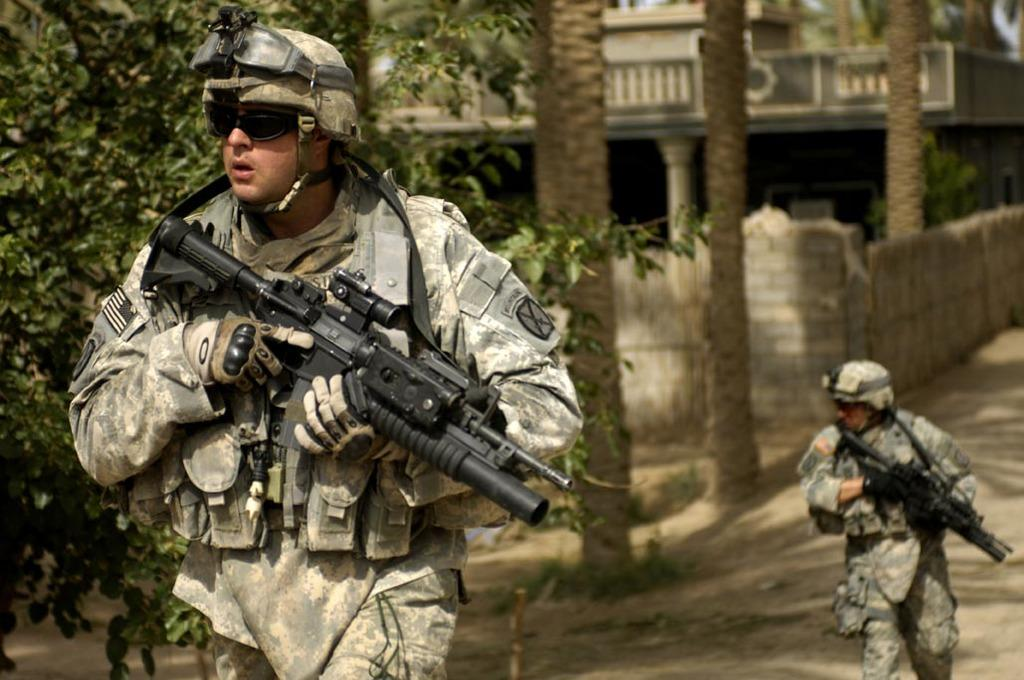non-violence: (77, 25, 583, 679), (801, 360, 1005, 680)
weapon: (141, 214, 572, 527), (830, 421, 1003, 563)
